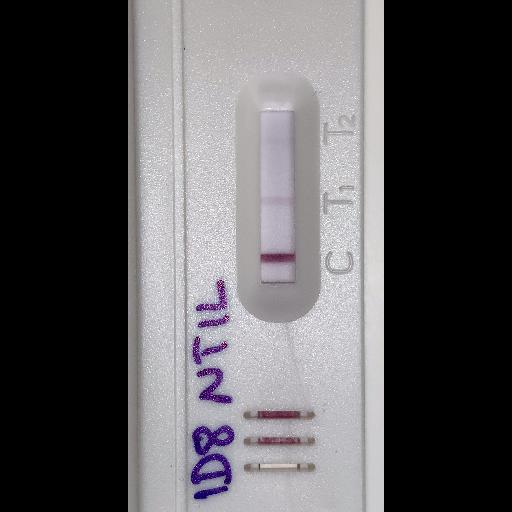Pos: (130, 0, 363, 511)
